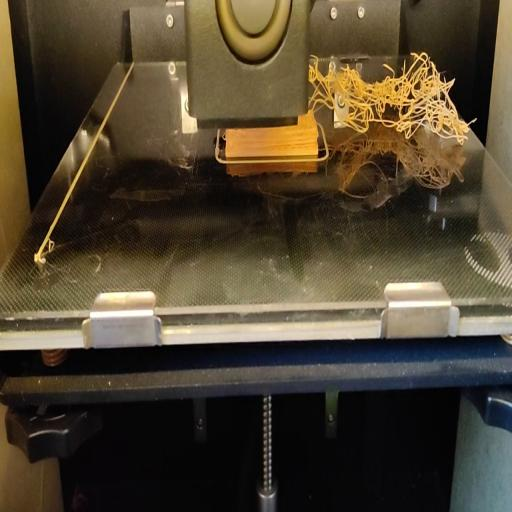spaghetti: (307, 48, 481, 146)
